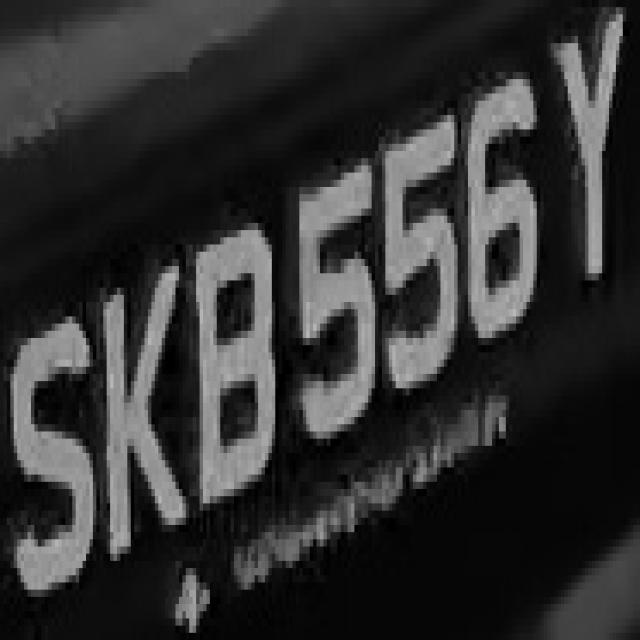5: (289, 144, 379, 453), (375, 108, 468, 388)
6: (461, 57, 547, 374)
B: (182, 216, 282, 532)
K: (96, 252, 182, 568)
S: (7, 302, 103, 618)
Y: (554, 14, 630, 323)
